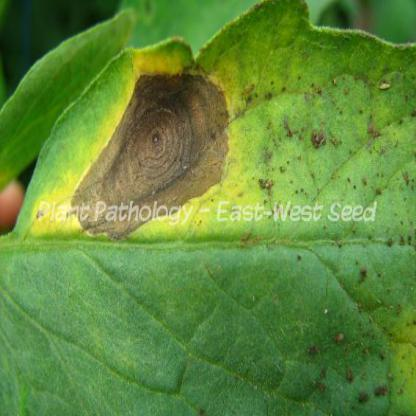Tomato Early blight leaf: (15, 25, 415, 265)
